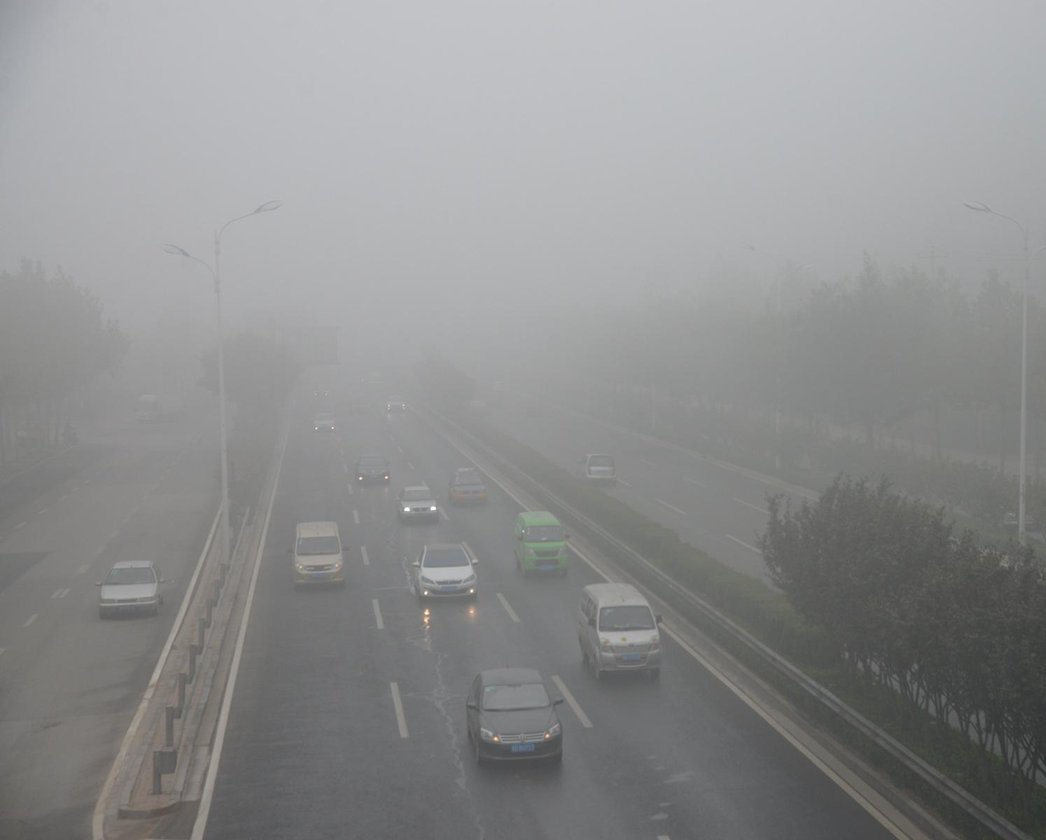bus: (130, 394, 187, 425)
car: (463, 665, 568, 770), (574, 581, 665, 682), (285, 520, 351, 591), (511, 508, 572, 581), (93, 559, 167, 619), (410, 543, 482, 602), (394, 484, 442, 525), (447, 466, 489, 506), (576, 452, 619, 488), (352, 453, 393, 486), (308, 412, 337, 432), (384, 395, 408, 412)
